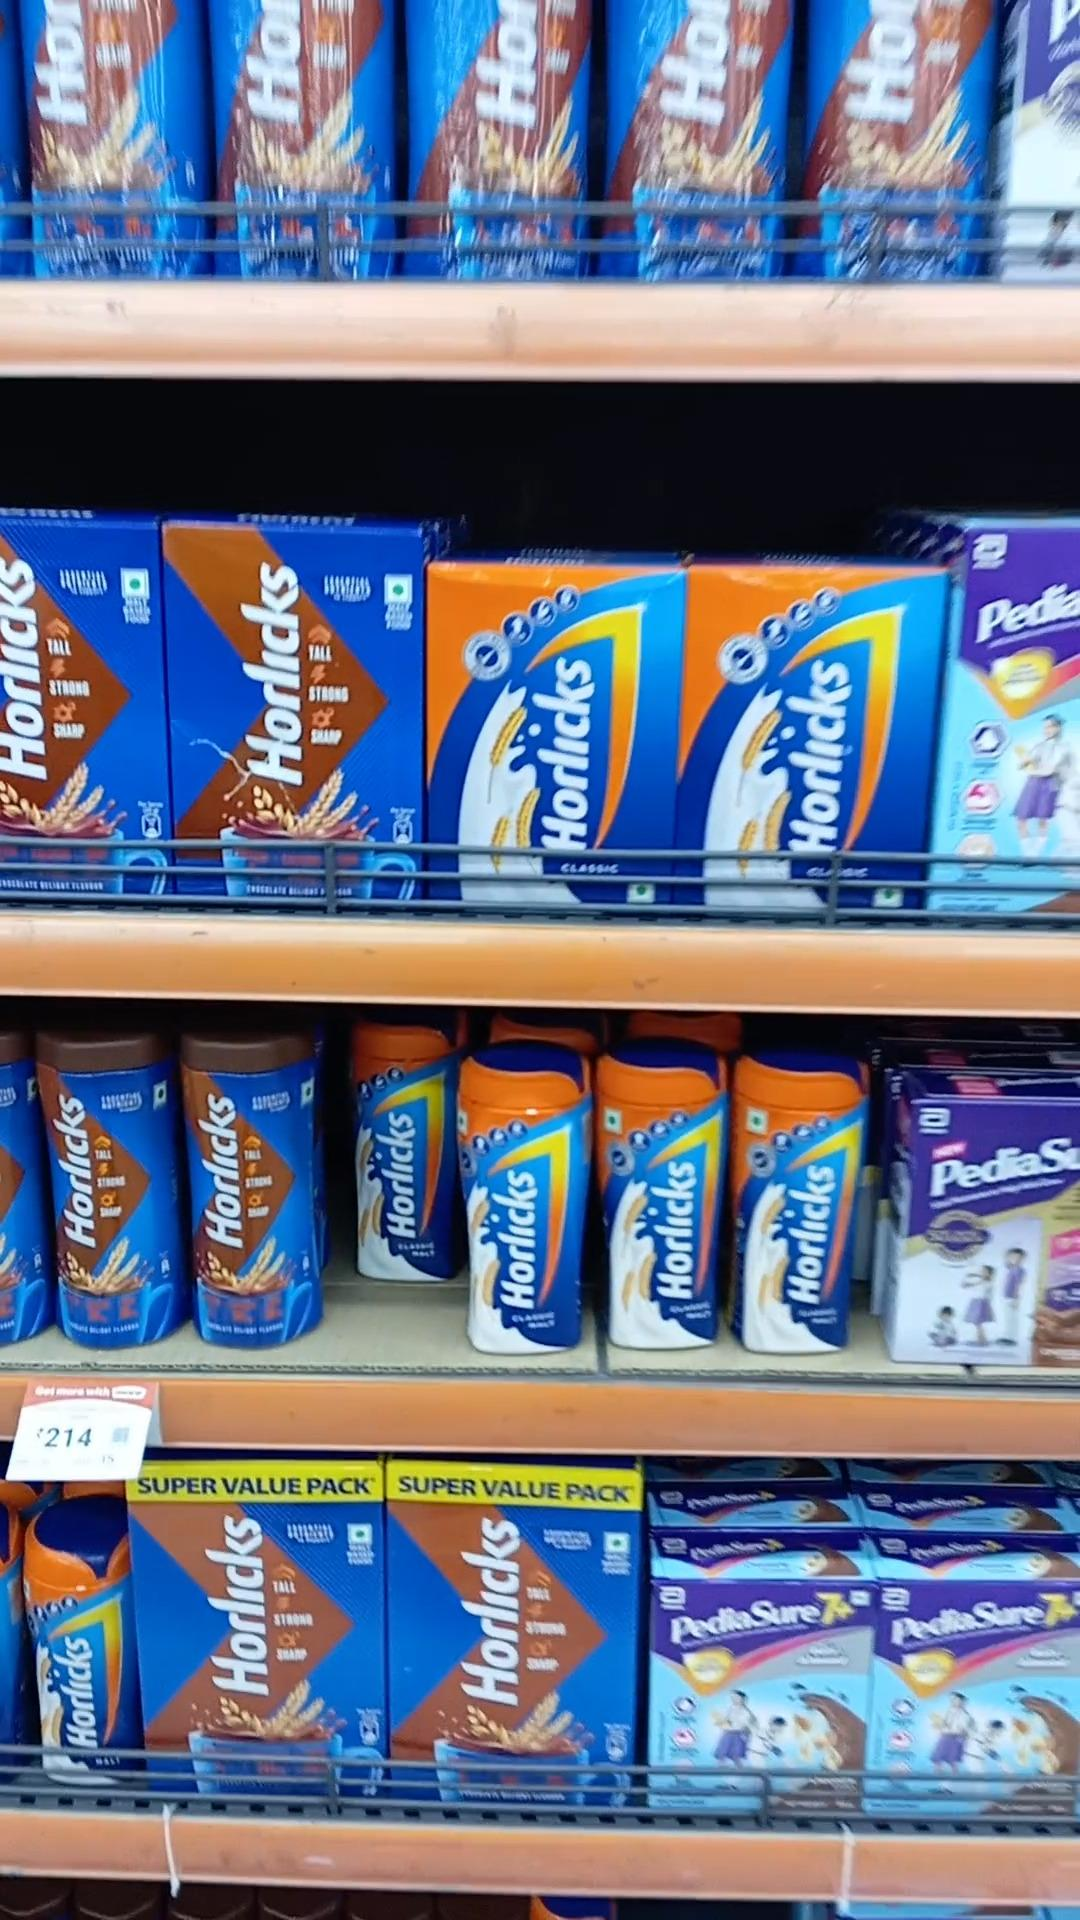HORLICK_CHOCOLATE_1_KG_PACK: (390, 1453, 637, 1808), (145, 1458, 384, 1804)
HORLICK_CHOCOLATE_500_G_JAR: (185, 1023, 316, 1352), (44, 1029, 177, 1352)
HORLICK_CHOCOLATE_500_G_PACK: (170, 522, 415, 903)
HORLICK_CLASSIC_MALT_500_G_JAR: (597, 1043, 723, 1353), (732, 1052, 853, 1352), (468, 1048, 584, 1346), (21, 1506, 133, 1785), (353, 1010, 456, 1284)
HORLICK_CLASSIC_MALT_500_G_PACK: (429, 567, 671, 910), (686, 567, 922, 914)
PEDIASURE_7_PLUS_CHOCOLATE_400_G_PACK: (649, 1580, 873, 1817), (880, 1576, 1080, 1828)
